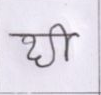i_matra: (53, 23, 73, 61)
